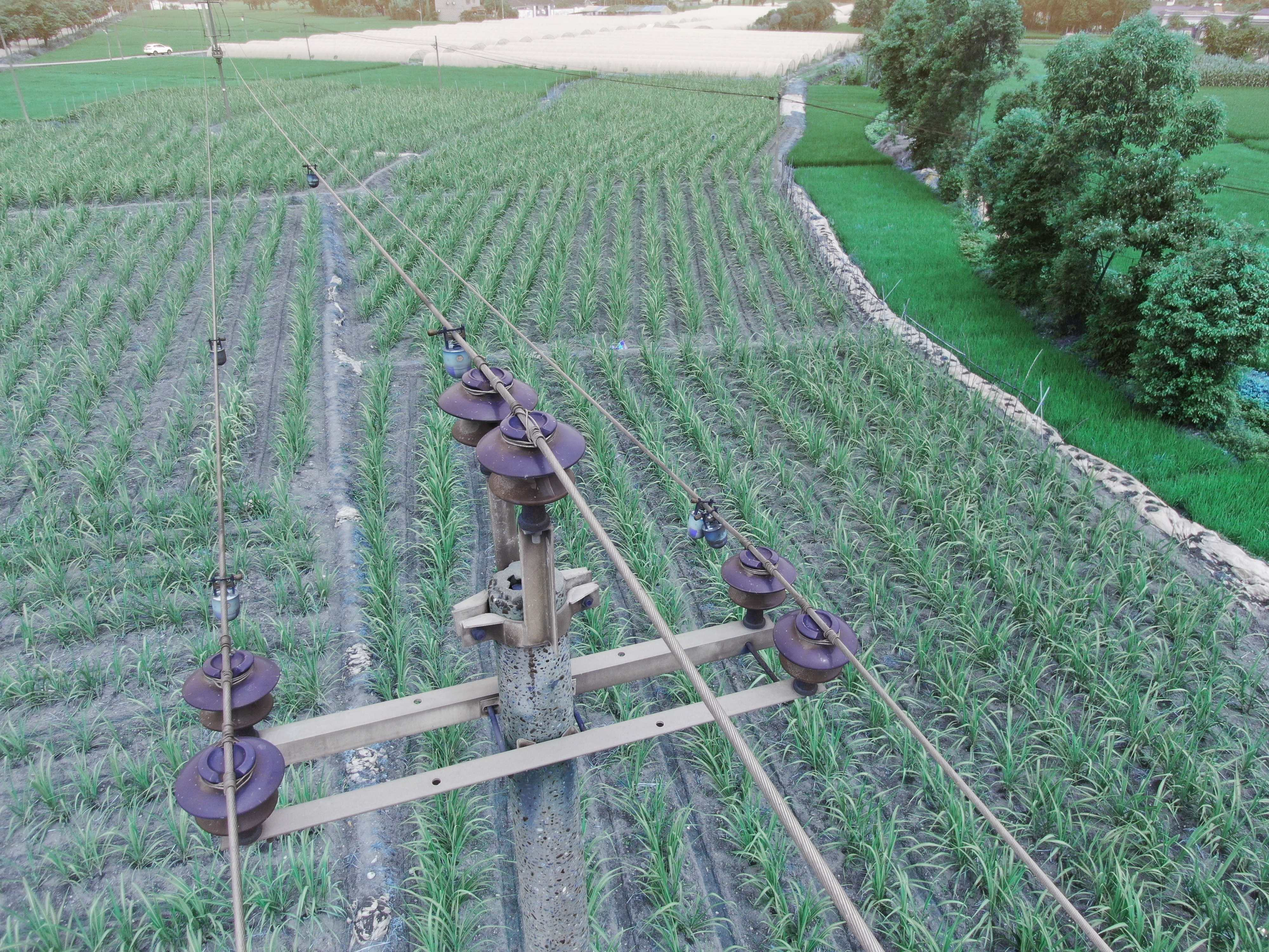severe_soiling_no_discharge_whole: (475, 409, 589, 509), (437, 367, 544, 454), (772, 602, 861, 686), (714, 543, 797, 617)
